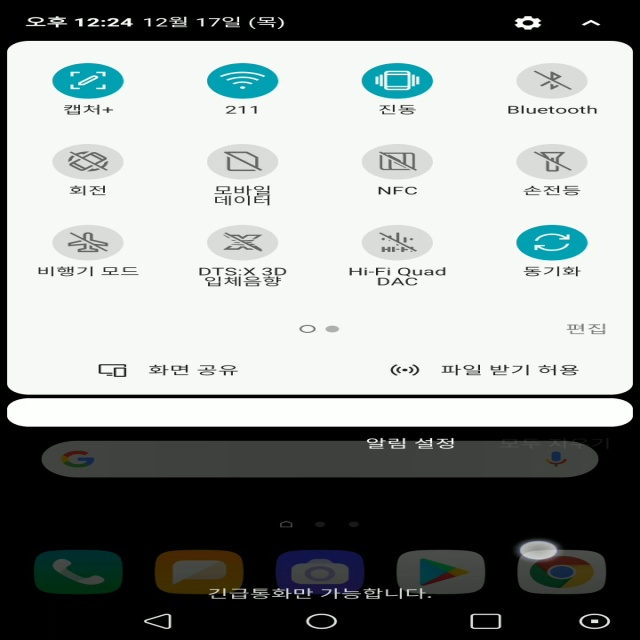Cursor: (517, 540, 561, 562)
